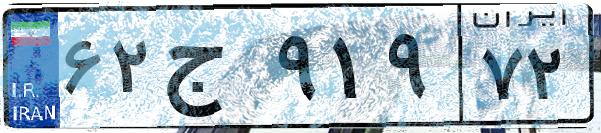1: (330, 28, 385, 110)
2: (525, 38, 570, 115), (110, 28, 158, 98)
6: (57, 26, 110, 100)
7: (475, 38, 525, 113)
9: (270, 28, 330, 110), (385, 28, 445, 110)
ج: (158, 20, 270, 120)
